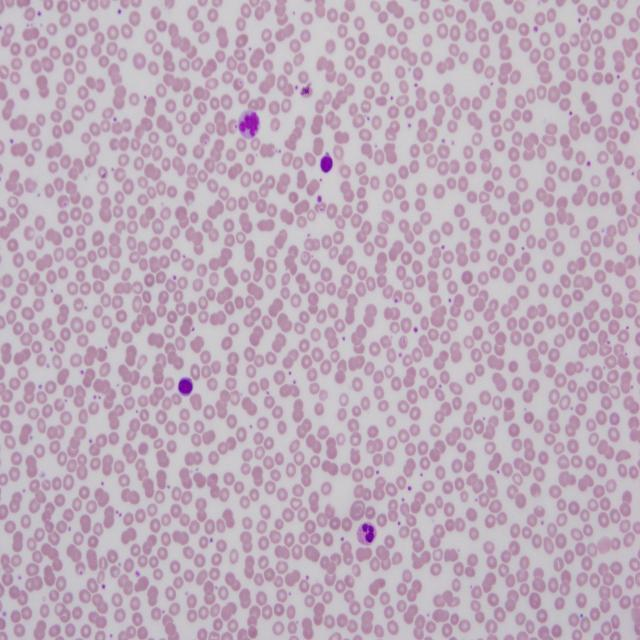cell: (358, 523, 376, 545)
